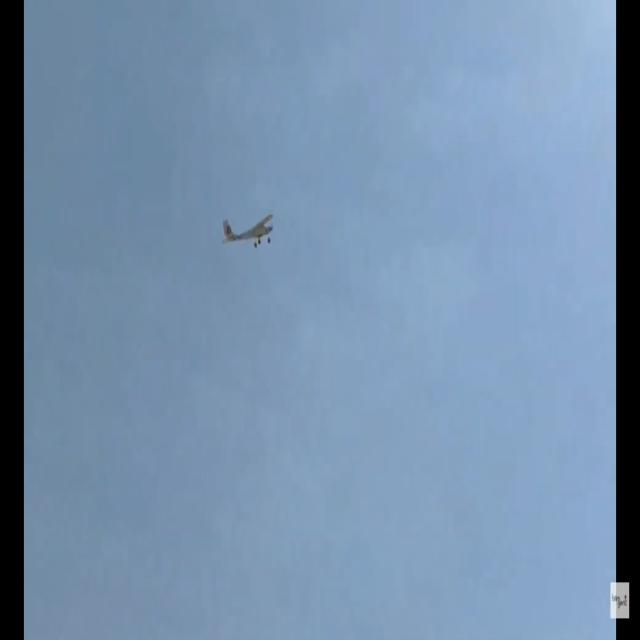iha: (222, 213, 274, 249)
